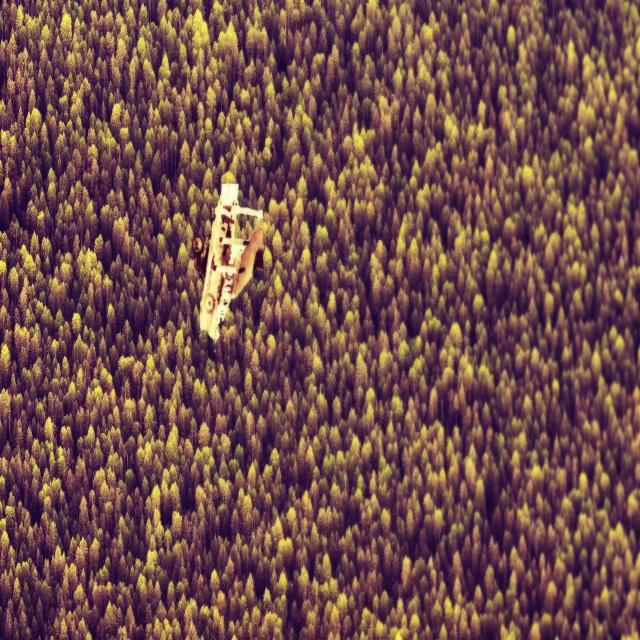airplane: (193, 181, 264, 343)
